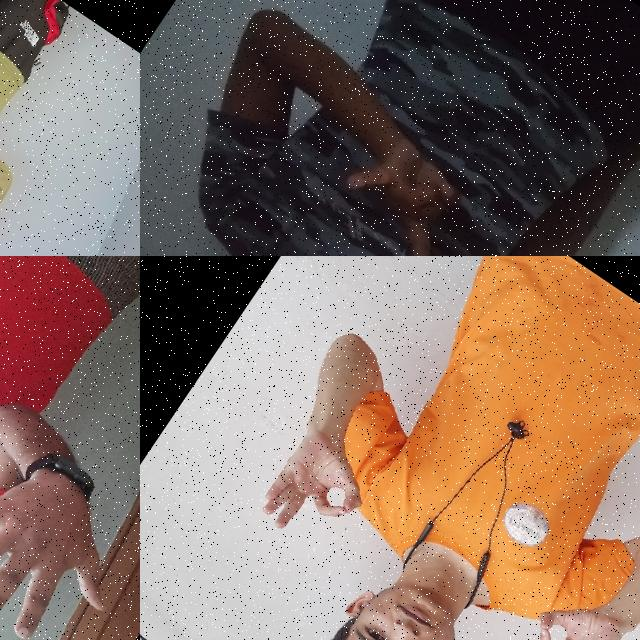Corna: (305, 101, 509, 256)
Moutza: (0, 421, 140, 640)
Okay: (240, 414, 392, 568), (499, 575, 640, 640)
